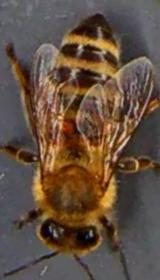varroa_mite: (54, 113, 78, 137)
